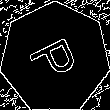P_NE: (25, 30, 85, 85)
